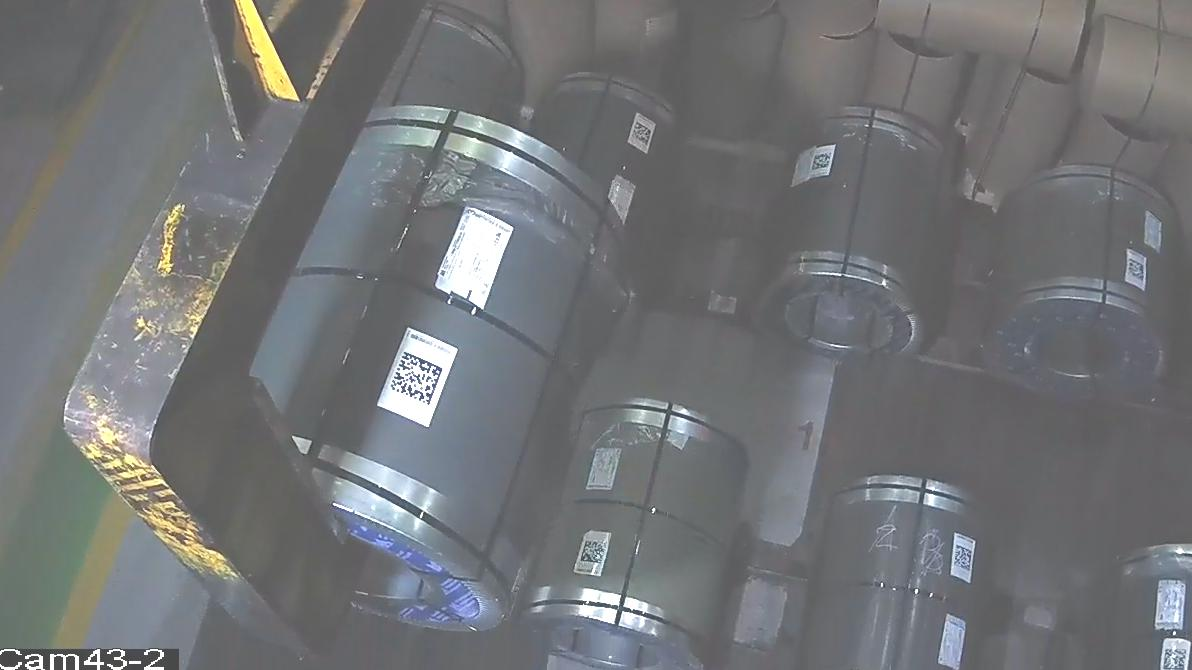data matrix: (387, 349, 446, 408), (579, 538, 609, 565), (953, 542, 976, 574), (1161, 647, 1191, 670), (630, 121, 654, 147), (1126, 258, 1148, 284), (812, 152, 834, 172)
